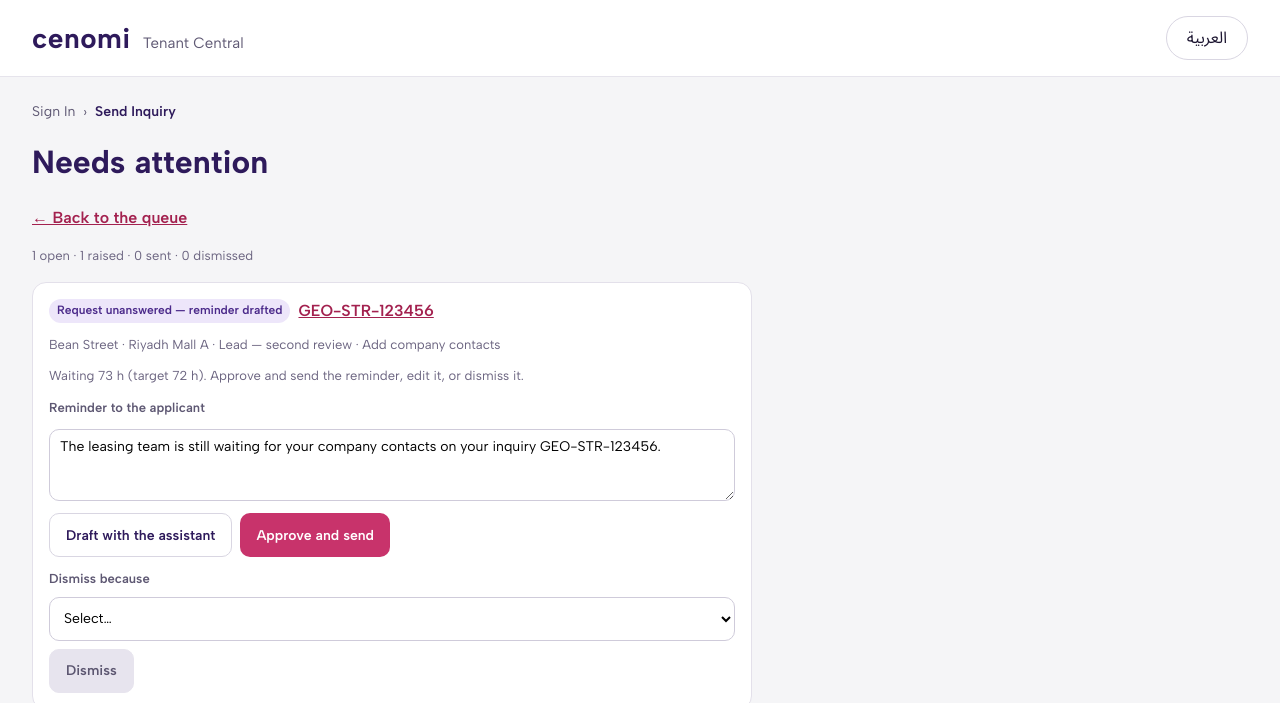
AttentionPage › drafts with the assistant, Use fills the textarea, and does not approve
Click the button with test id "attention-draft-assistant" at x=141, y=535, box [49,513,232,557]
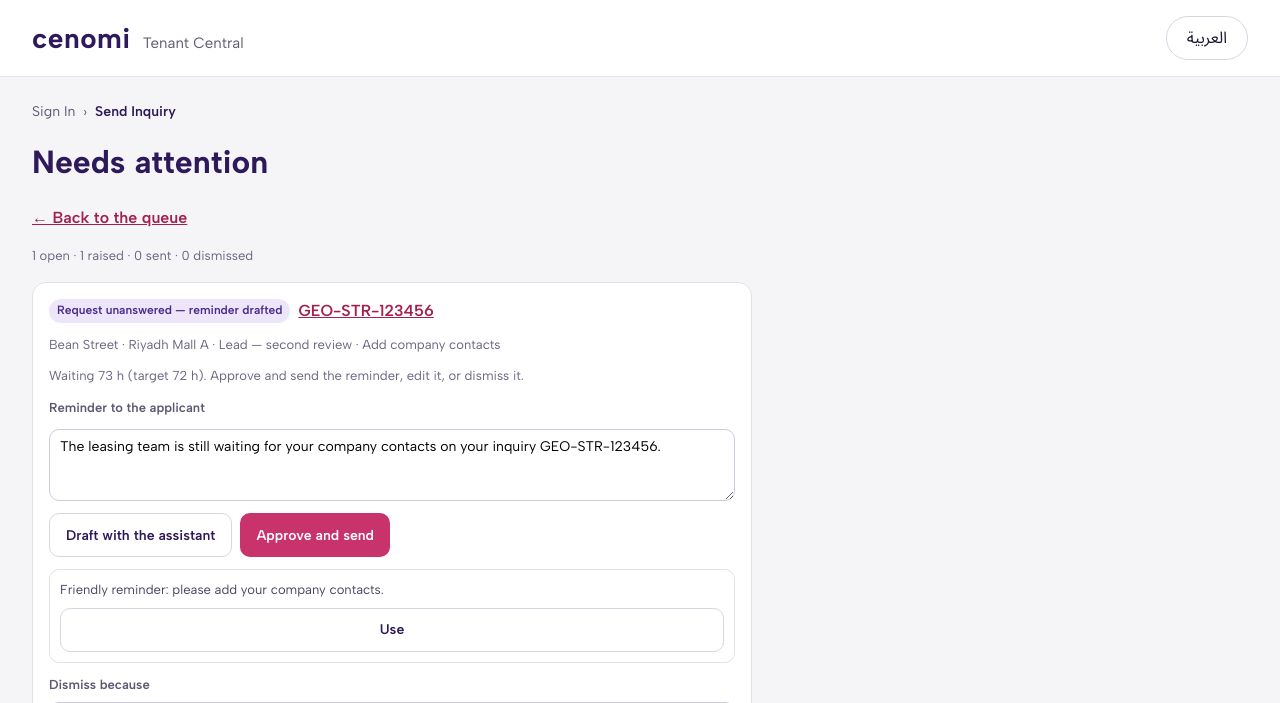
Expected: the element with test id "attention-assistant-draft" shows "Friendly reminder: please add your company contacts.", [60,582,384,597]
Click the button with test id "attention-use-draft" at x=392, y=630, box [60,608,724,652]
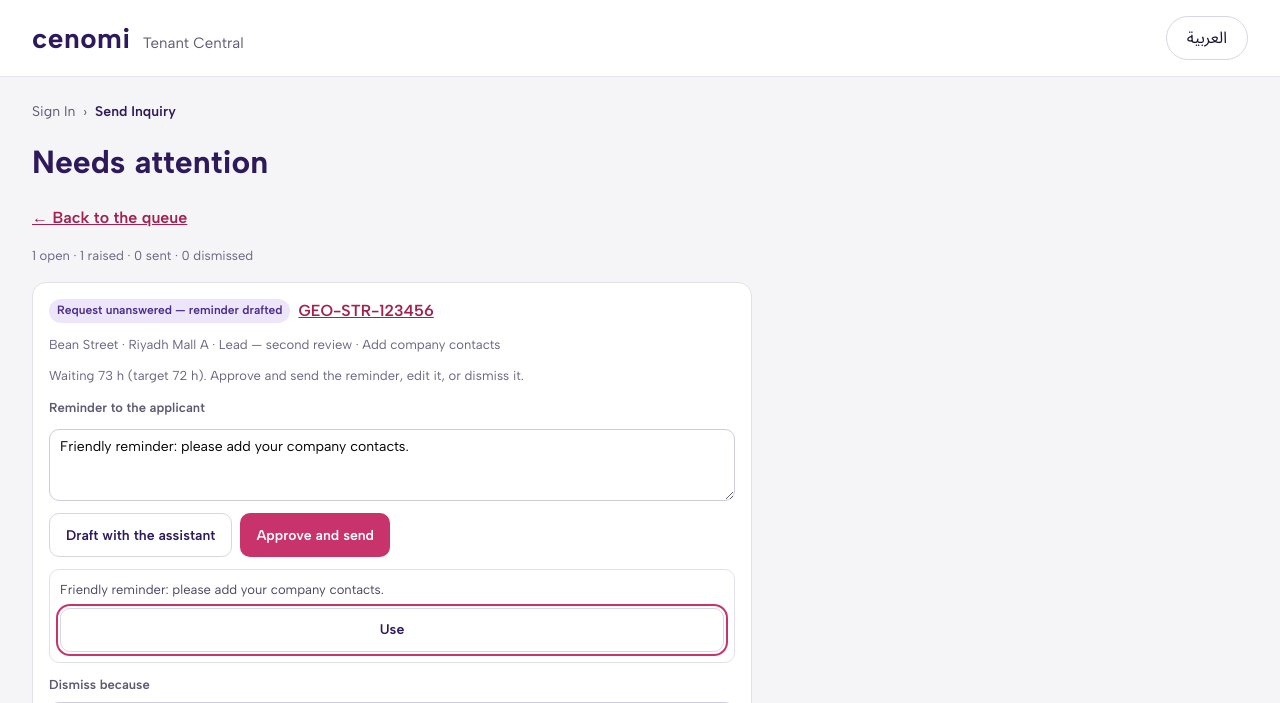
Expected: the text box labelled "Reminder to the applicant" holds "Friendly reminder: please add your company contacts.", [49,429,735,501]
